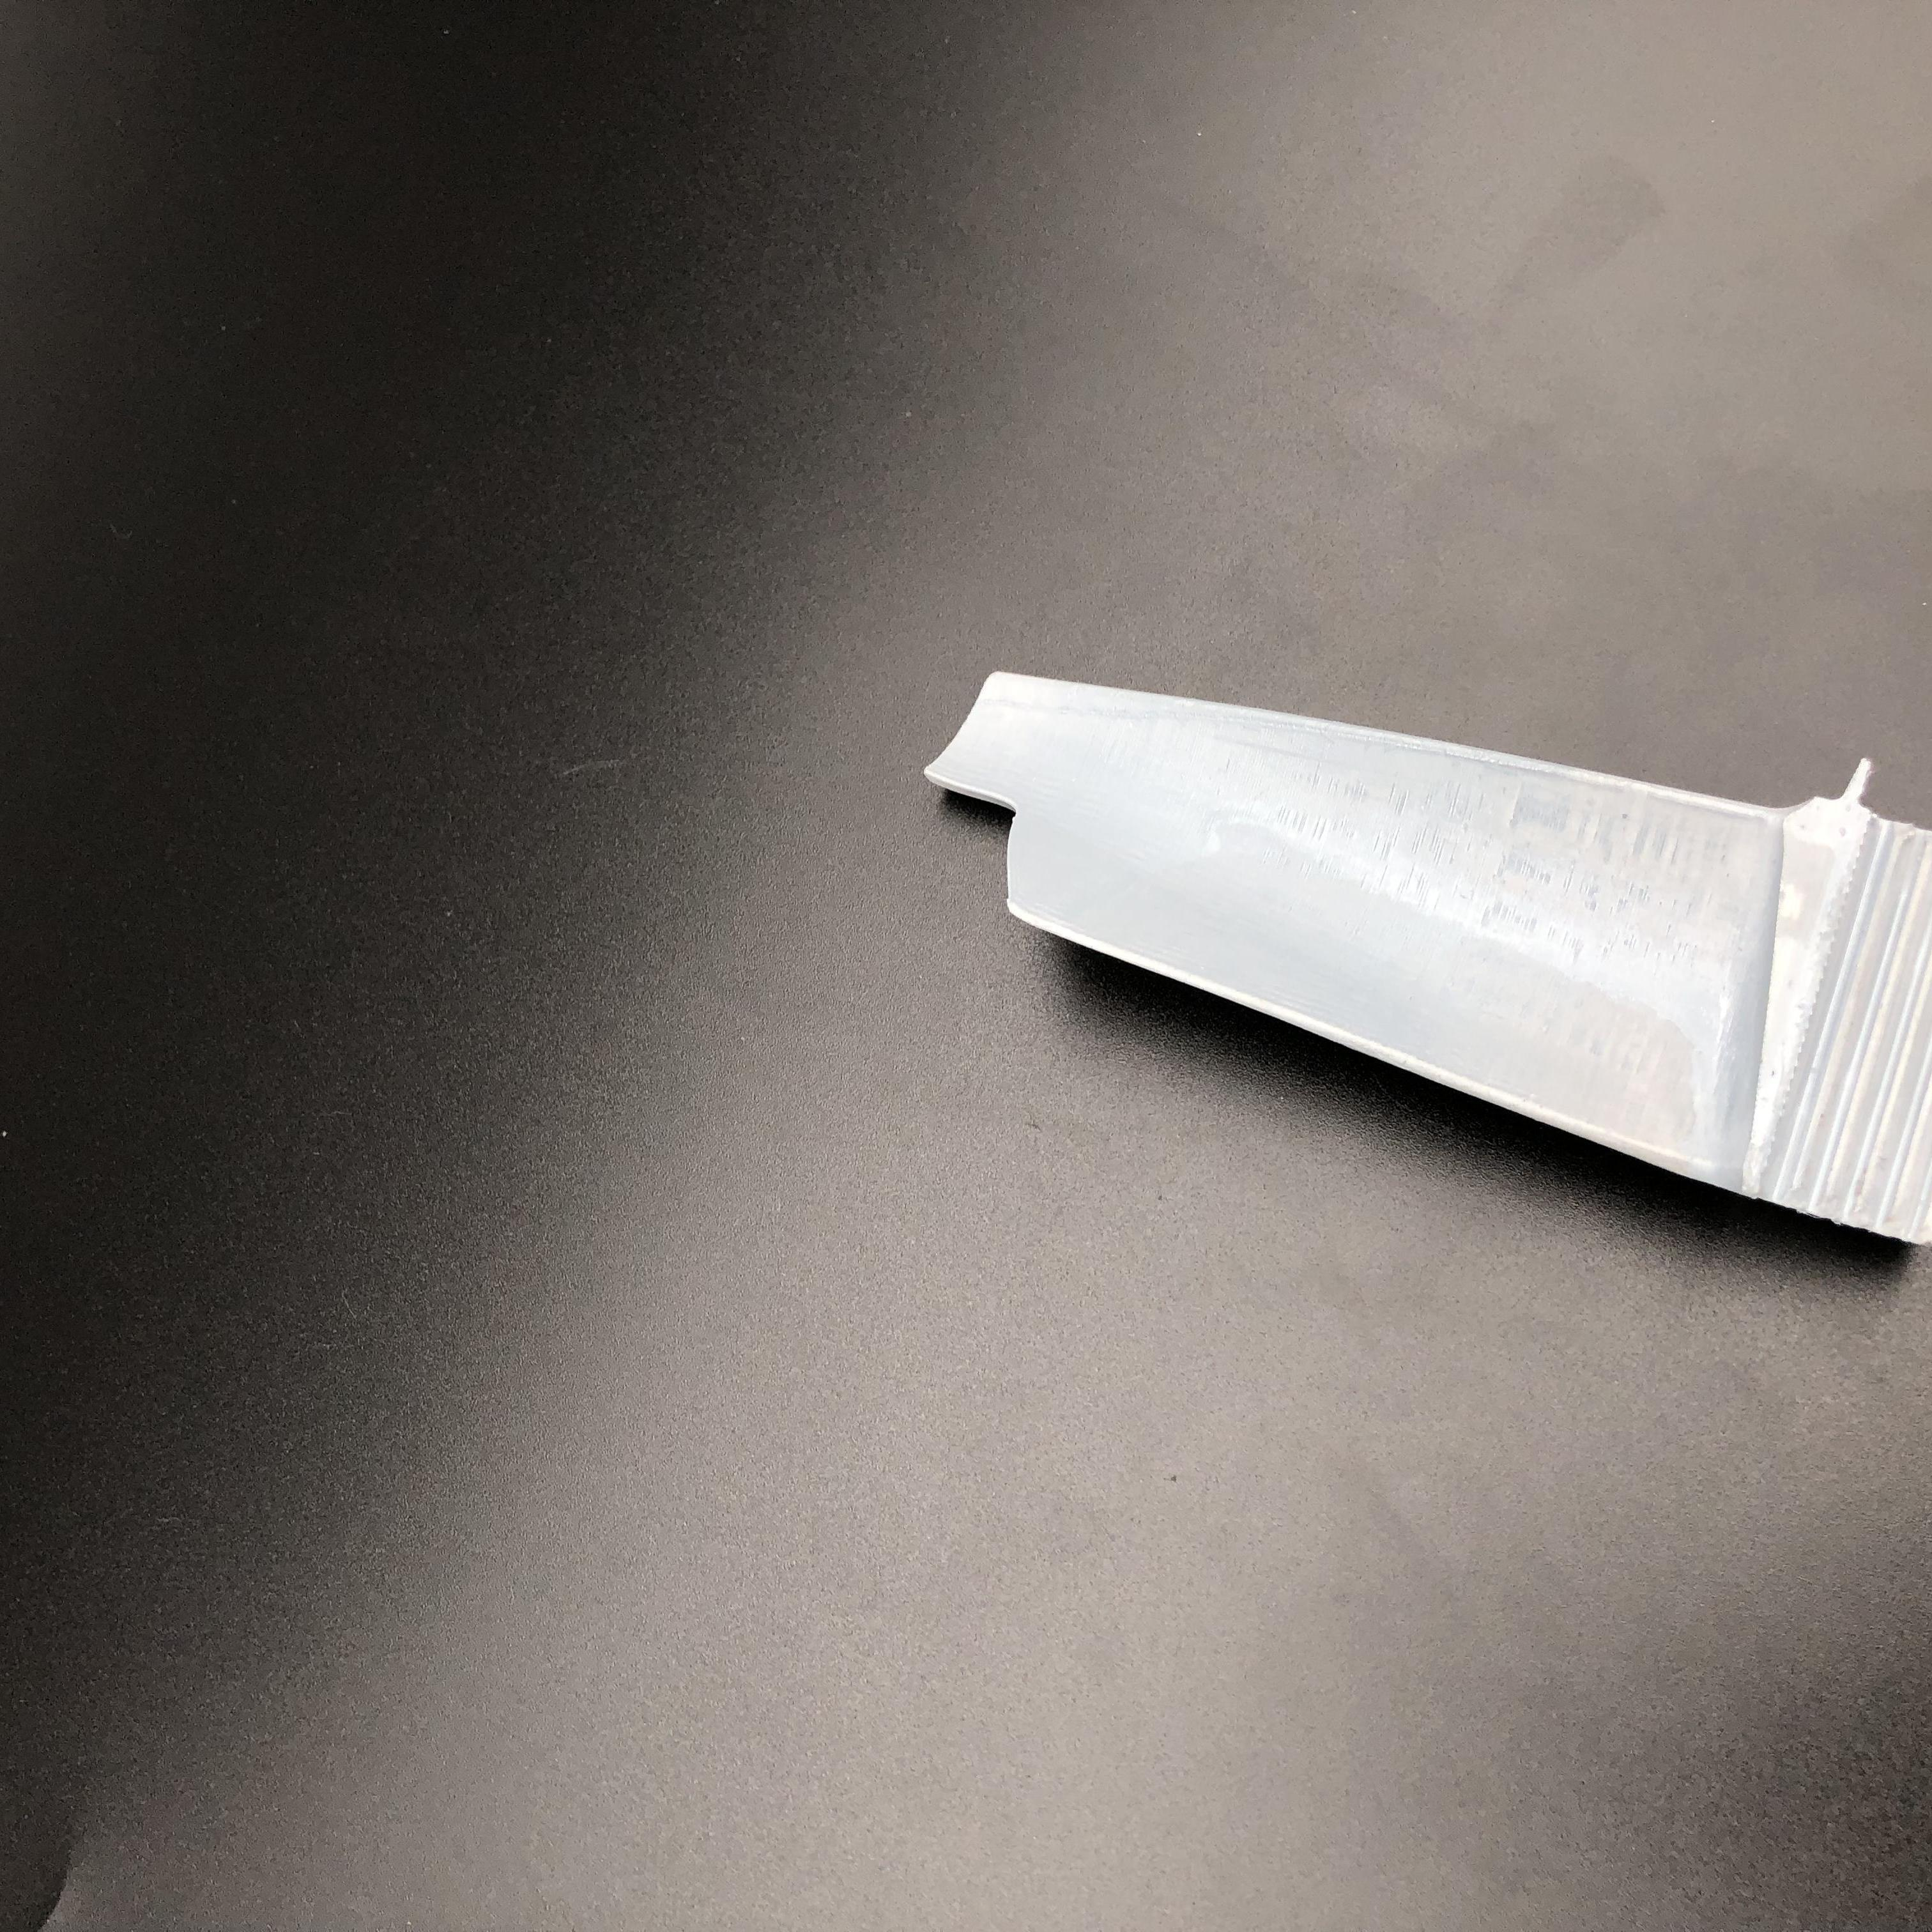fracture: (909, 764, 1056, 936)
